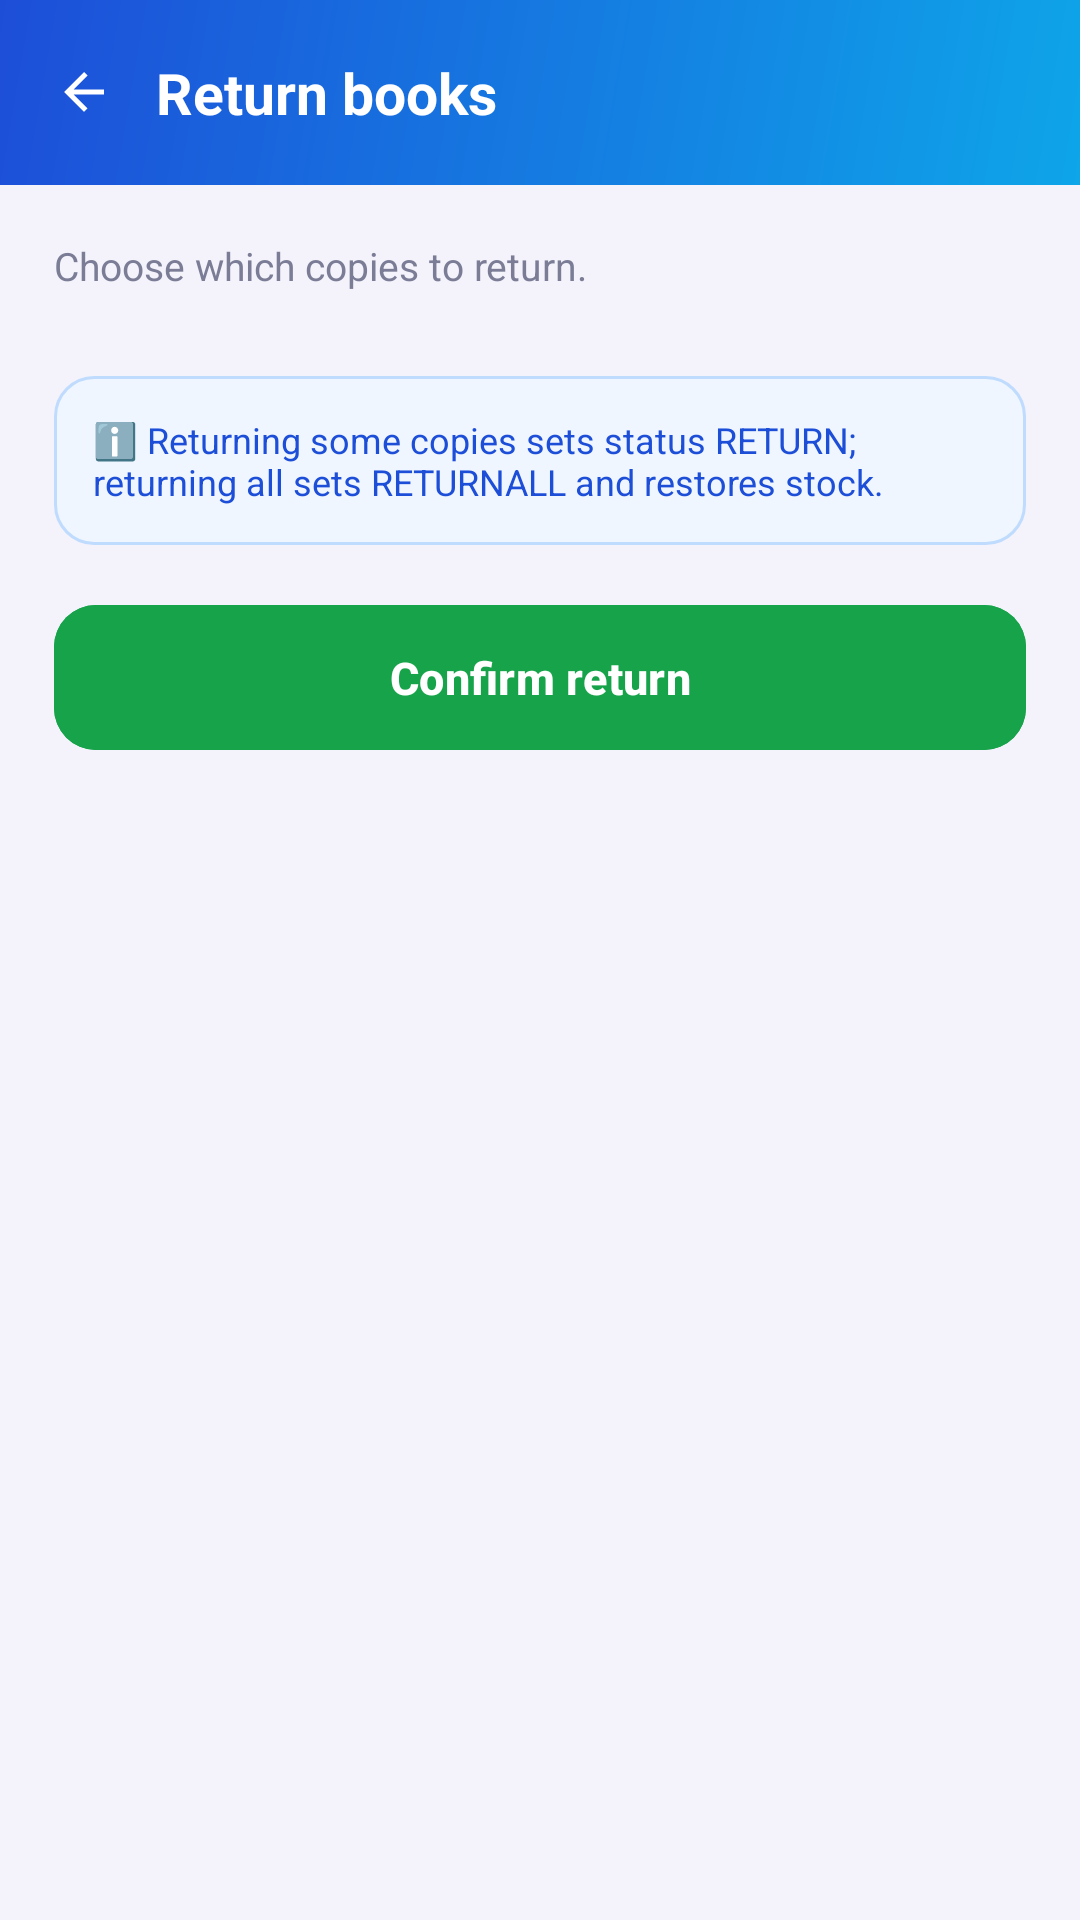

Screen size 1080 × 1920. Icon name, then its box in pixels as bbox=(x1, y1, x2, y2):
arrow back: bbox=(64, 72, 104, 112)
